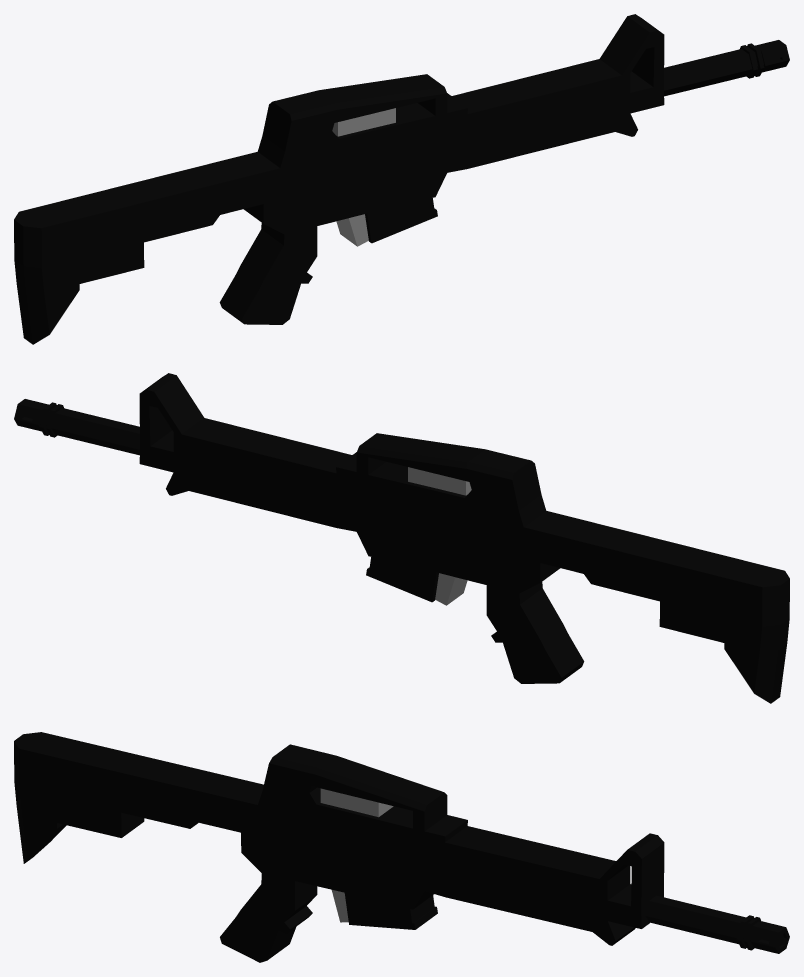
3 renders of one model, top to bottom at view 1: azimuth 30°, elevation 25°; view 2: azimuth 150°, elevation 25°; view 3: azimuth 330°, elevation 25°, orthographic.
Parts seen in each view (by area): view 1: M4A1, M4A1Mag; view 2: M4A1, M4A1Mag; view 3: M4A1, M4A1Mag.
Boxes of the visible parts, x1,y1,x2,y2 form: M4A1: (14, 14, 789, 344); M4A1Mag: (332, 108, 395, 246); M4A1: (14, 373, 789, 703); M4A1Mag: (408, 467, 471, 605); M4A1: (14, 732, 789, 962); M4A1Mag: (320, 788, 393, 922).
Size of the model in its own units: 966 by 249 by 49.44.
